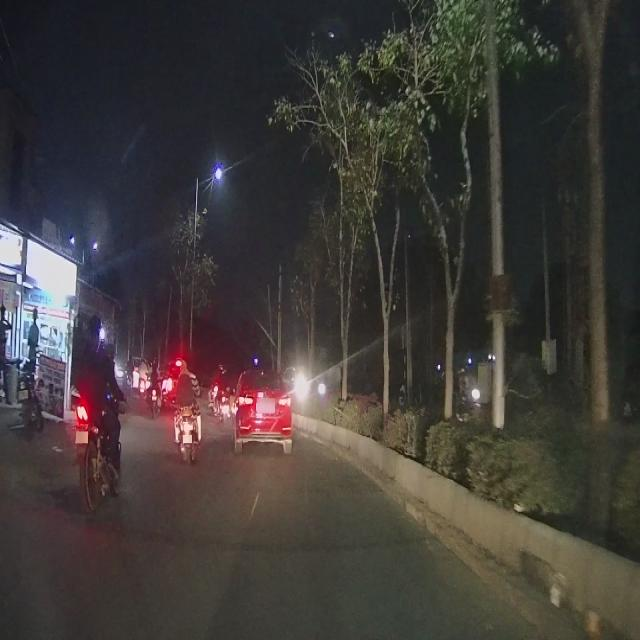car ahead at: (231, 364, 301, 464)
motorcycle ahead at: (68, 378, 133, 524), (164, 408, 208, 472)
